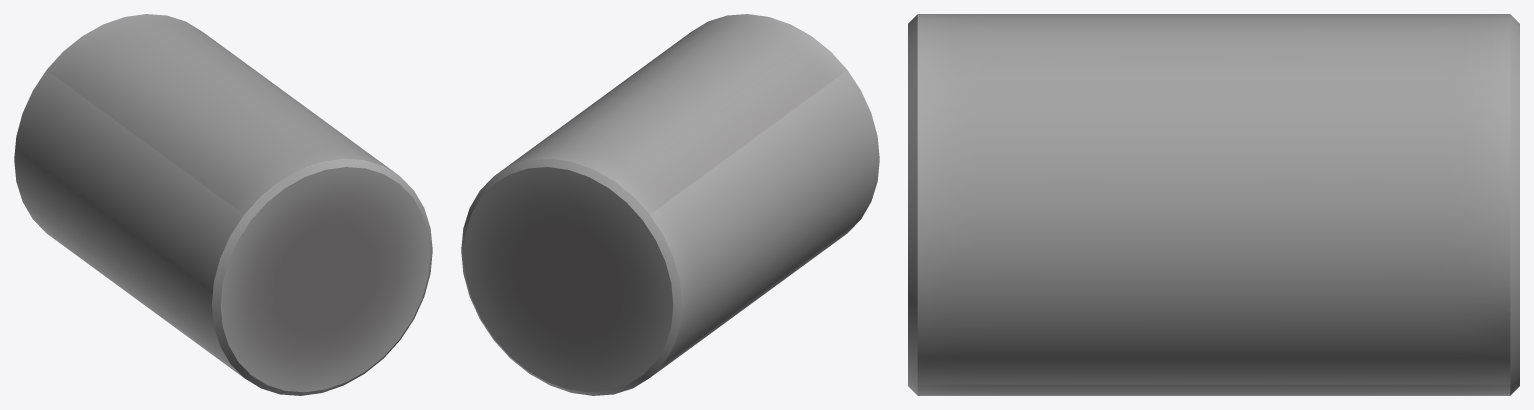
The model's file is pin3_textured.glb.
The picture shows the model from 3 angles, left to right: view 1: azimuth 30°, elevation 25°; view 2: azimuth 150°, elevation 25°; view 3: azimuth 270°, elevation 25°; orthographic projection. The views are drawn at different scales.
Parts seen in each view (by area): view 1: pin3; view 2: pin3; view 3: pin3.
Part boxes in pixels (x1,y1,x2,y2): pin3: (14,14,432,395); pin3: (461,14,879,395); pin3: (908,14,1519,395).
Size of the model in its own units: 0.1 by 0.1 by 0.16.
1 material, 1 textured.
